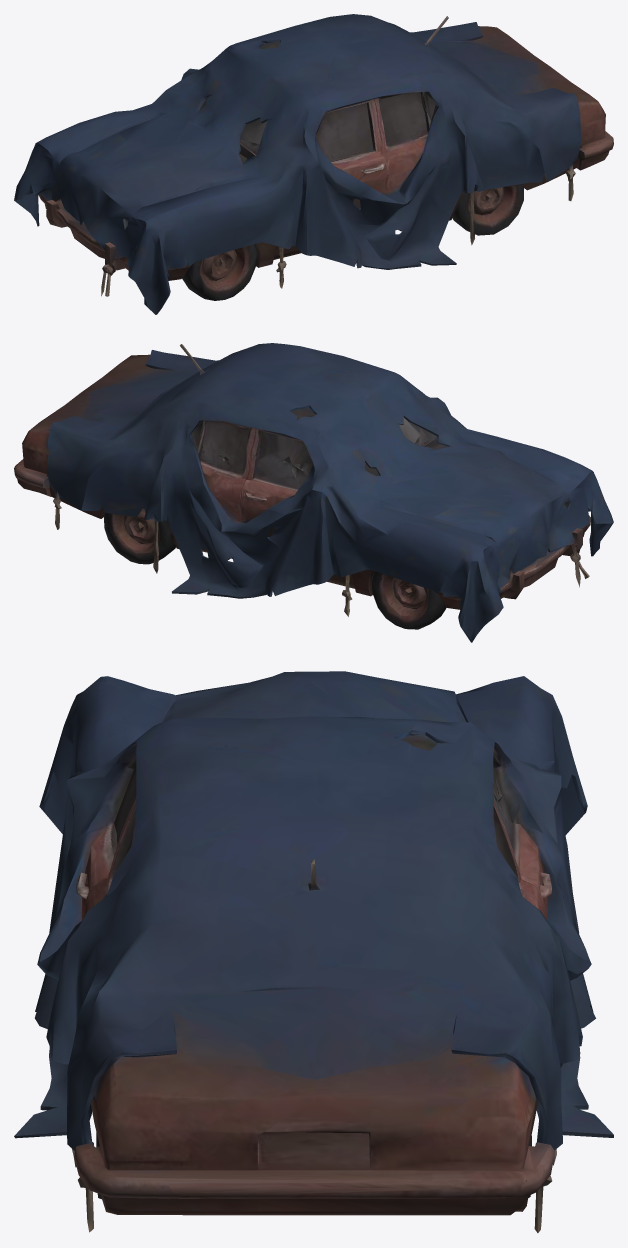
File: car_tarp_idle.glb
3 views of the same model, one above another, from view 1: azimuth 30°, elevation 25°; view 2: azimuth 150°, elevation 25°; view 3: azimuth 270°, elevation 25° (orthographic). The views are drawn at different scales.
Parts seen in each view (by area): view 1: tripo_node_12586a1f-99f5-4323-8c92-e6ed9d861ed7; view 2: tripo_node_12586a1f-99f5-4323-8c92-e6ed9d861ed7; view 3: tripo_node_12586a1f-99f5-4323-8c92-e6ed9d861ed7.
Boxes of the visible parts, x1,y1,x2,y2 form: tripo_node_12586a1f-99f5-4323-8c92-e6ed9d861ed7: (14,14,613,314); tripo_node_12586a1f-99f5-4323-8c92-e6ed9d861ed7: (14,343,613,642); tripo_node_12586a1f-99f5-4323-8c92-e6ed9d861ed7: (14,671,613,1232).
Size of the model in its own units: 4.5 by 1.55 by 2.44.
Materials: 1 (1 with a texture image).
